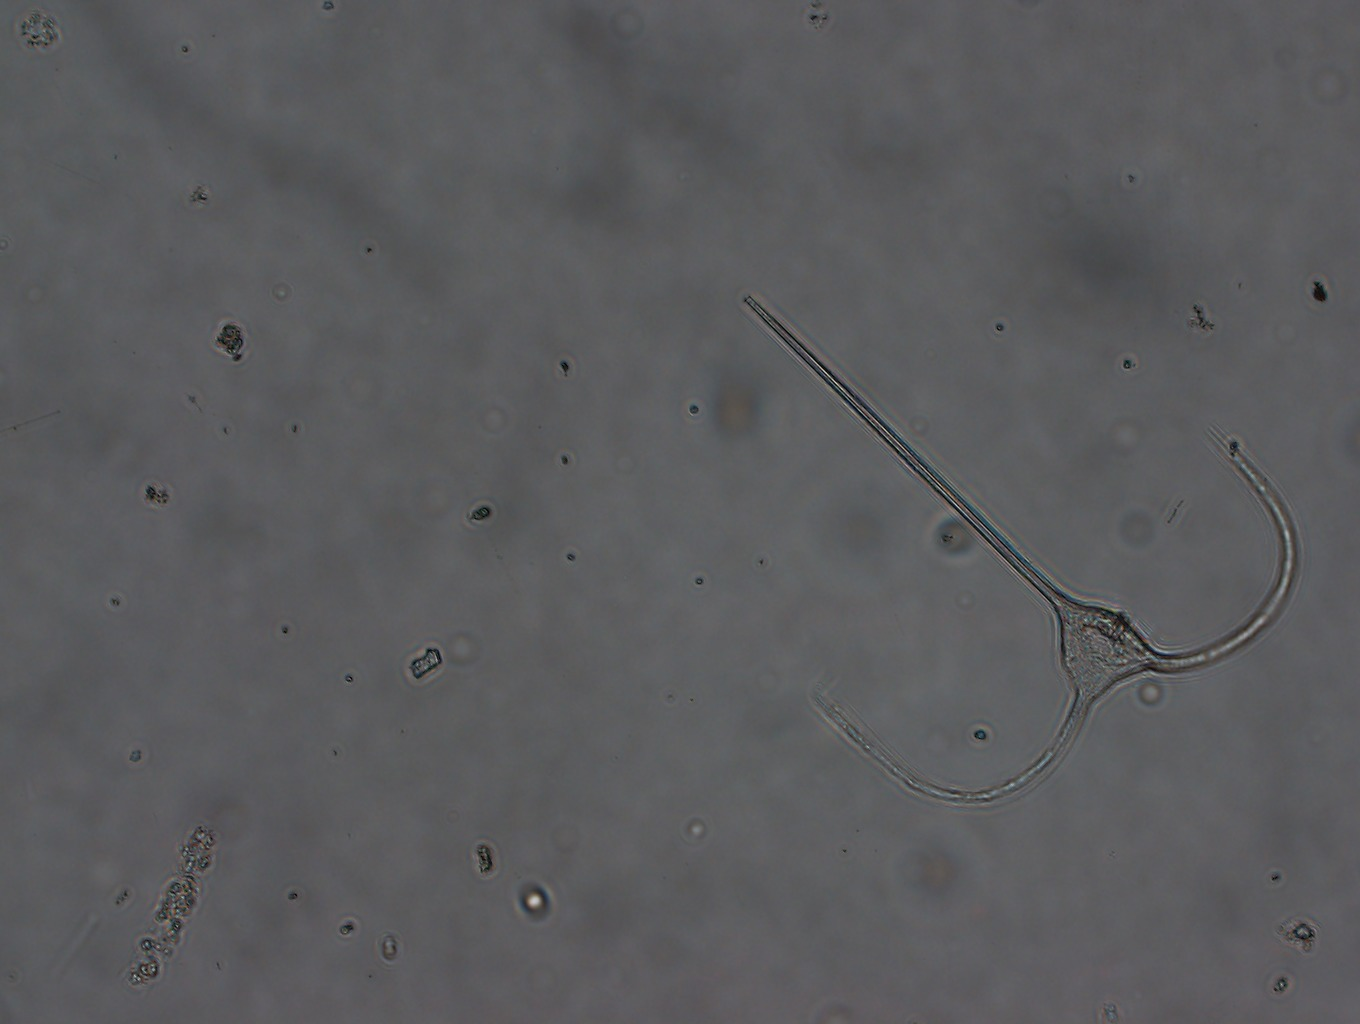ceratium trichoceros: (725, 282, 1305, 815)
